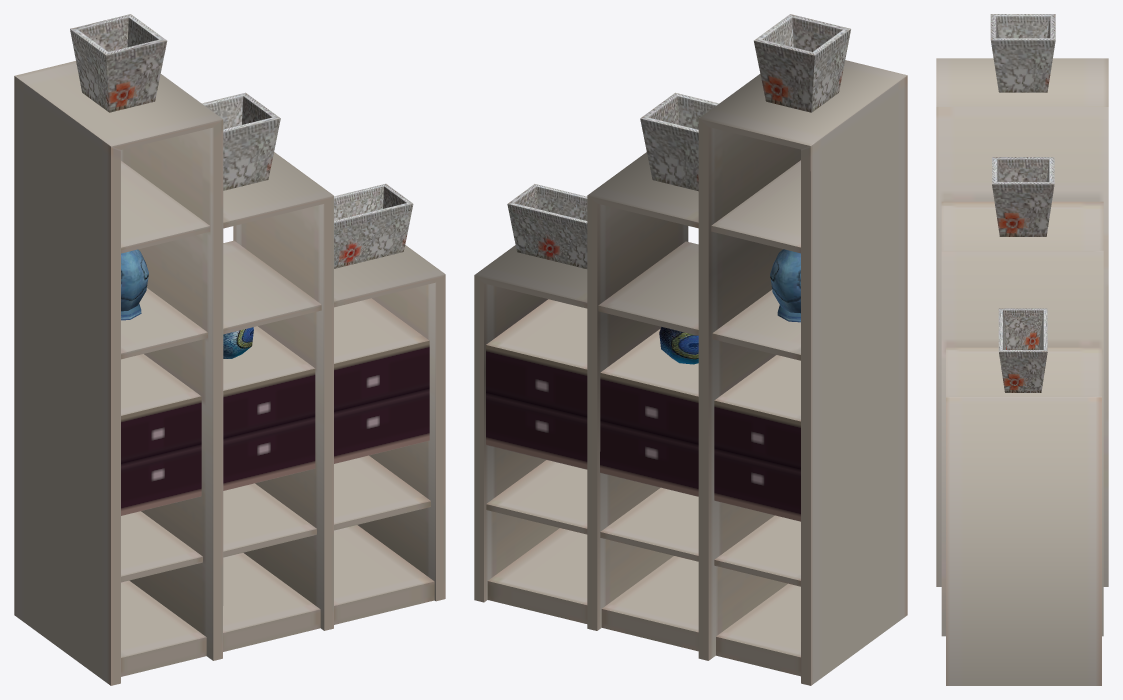
The model's file is furni_02000104_02.FBX.
The picture shows the model from 3 angles, left to right: view 1: azimuth 30°, elevation 25°; view 2: azimuth 150°, elevation 25°; view 3: azimuth 270°, elevation 25°; orthographic projection. The views are drawn at different scales.
Visible parts, largest first — view 1: furni_02000104_02; view 2: furni_02000104_02; view 3: furni_02000104_02.
Part boxes in pixels (x1,y1,x2,y2): furni_02000104_02: (14, 14, 445, 685); furni_02000104_02: (474, 14, 907, 685); furni_02000104_02: (936, 14, 1108, 685).
Size of the model in its own units: 142 by 239 by 69.73.
1 material, 1 textured.
